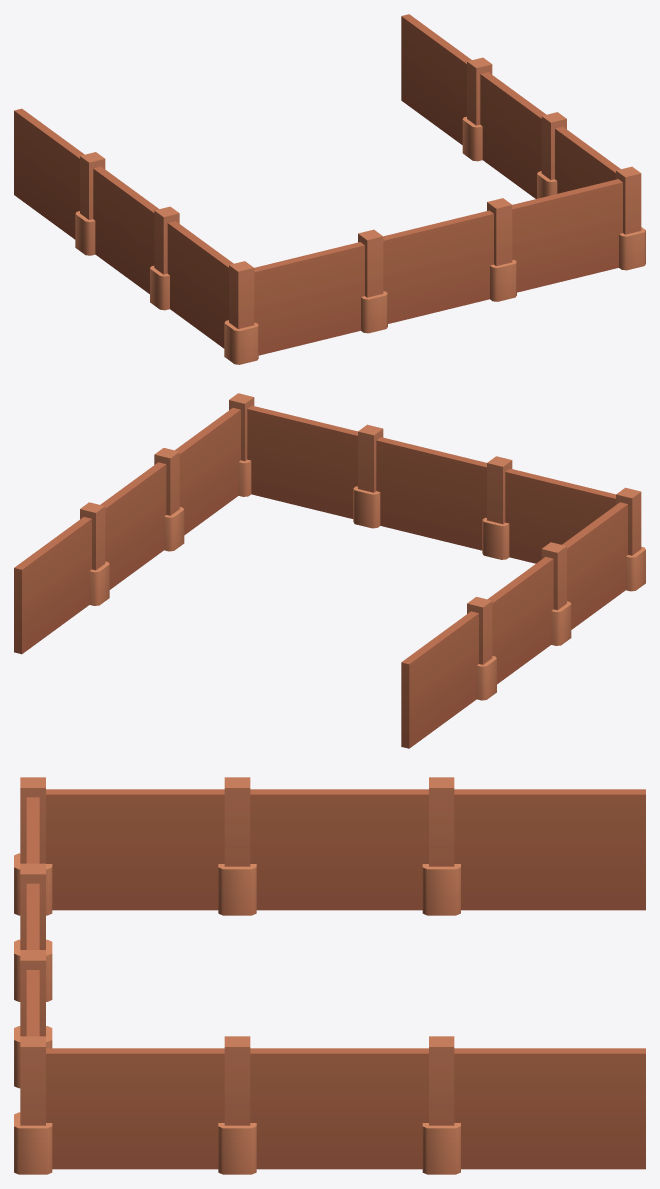
The model's file is kenney-city-suburban-fence-3-x-3.glb.
3 views of the same model, one above another, from view 1: azimuth 30°, elevation 25°; view 2: azimuth 150°, elevation 25°; view 3: azimuth 270°, elevation 25° (orthographic). The views are drawn at different scales.
Parts seen in each view (by area): view 1: fence-3x3; view 2: fence-3x3; view 3: fence-3x3.
Boxes of the visible parts, bbox=[...] form: fence-3x3: bbox=[14, 14, 645, 364]; fence-3x3: bbox=[14, 393, 645, 748]; fence-3x3: bbox=[14, 777, 645, 1174].
Size of the model in its own units: 1.28 by 0.27 by 1.24.
Materials: 1 (1 with a texture image).
